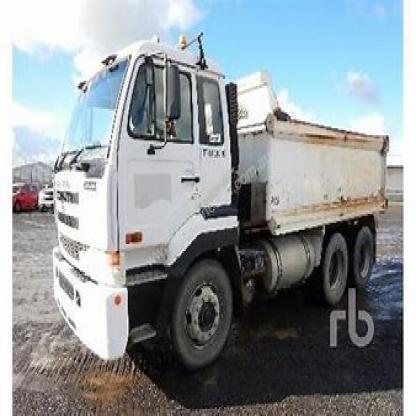dump_truck: (38, 30, 390, 374)
